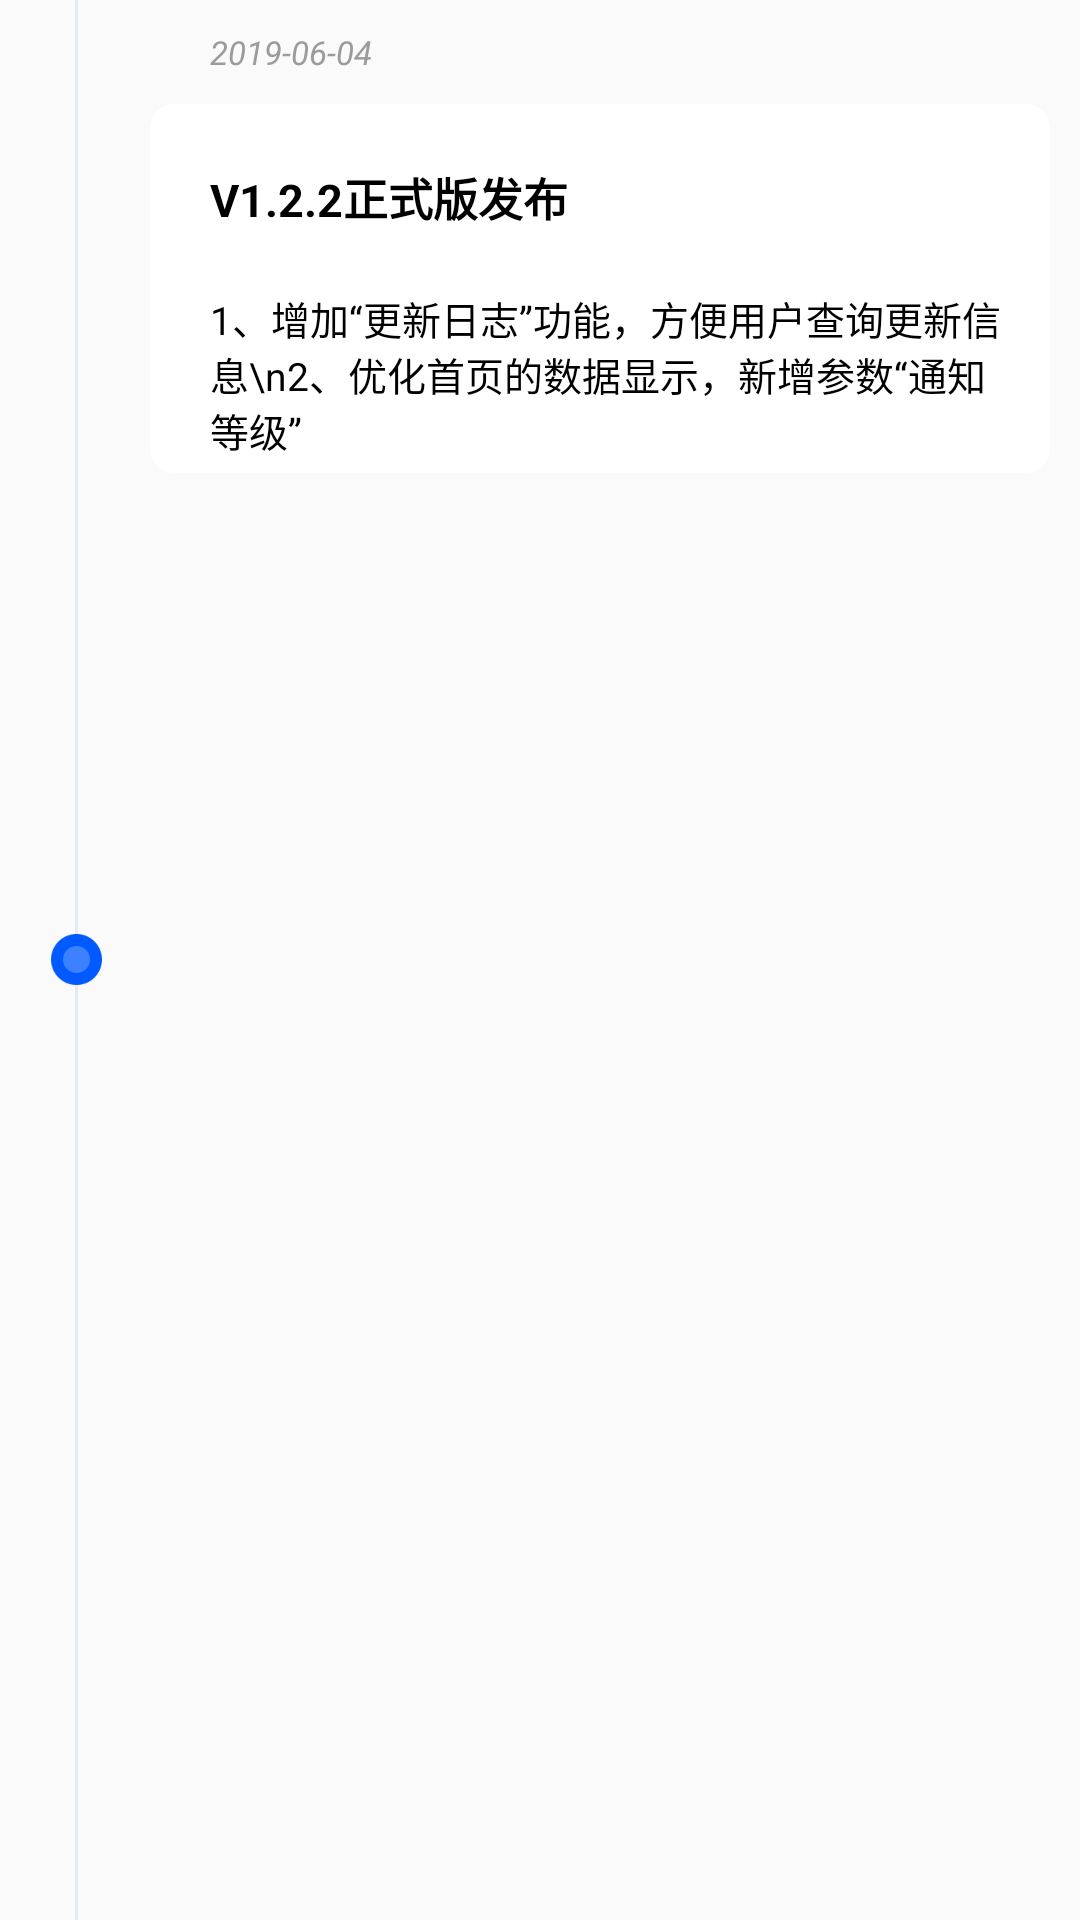

Locate icon controls on the screen. Image size 1080 x 1920, boxes as (x1, y1, x2, y2).
lanyuan: (51, 934, 102, 985)
